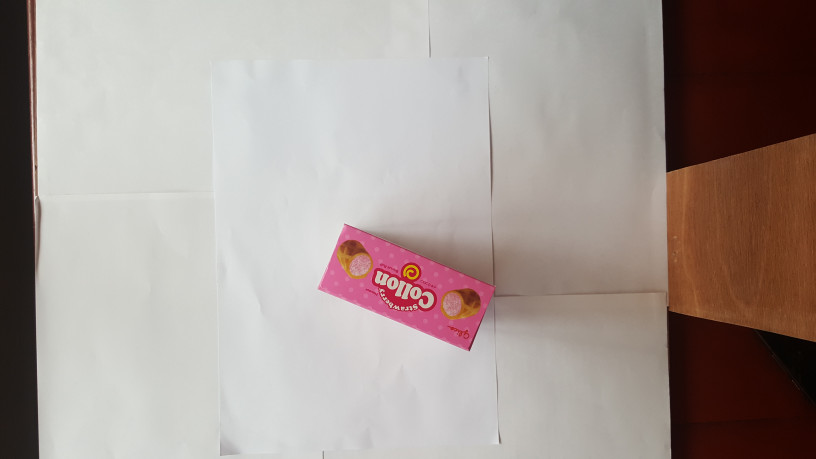collon-strawberry: (314, 221, 497, 355)
